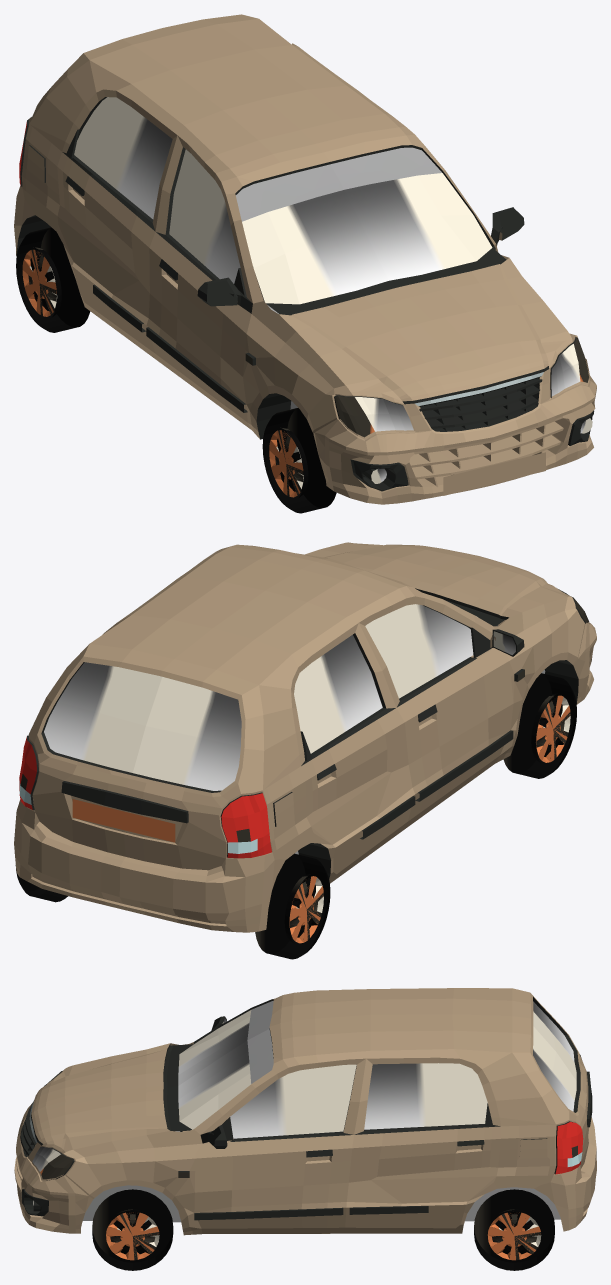
Rendered from MS-Alto_AssemblyStock.fbx.
3 renders of one model, top to bottom at view 1: azimuth 30°, elevation 25°; view 2: azimuth 150°, elevation 25°; view 3: azimuth 270°, elevation 25°, orthographic. The views are drawn at different scales.
Visible parts, largest first — view 1: Body, WheelRR, WheelFR; view 2: Body, WheelRR, WheelFR; view 3: Body, WheelFL, WheelRL.
Part boxes in pixels (bbox=[...]): Body: bbox=[14, 14, 596, 504]; WheelRR: bbox=[16, 227, 90, 332]; WheelFR: bbox=[262, 408, 336, 513]; Body: bbox=[14, 542, 596, 932]; WheelRR: bbox=[255, 853, 330, 959]; WheelFR: bbox=[503, 673, 576, 778]; Body: bbox=[14, 988, 596, 1235]; WheelFL: bbox=[92, 1189, 173, 1270]; WheelRL: bbox=[474, 1189, 554, 1270].
Bounding box in the file's own units: 2.1 × 1.68 × 4.27.
